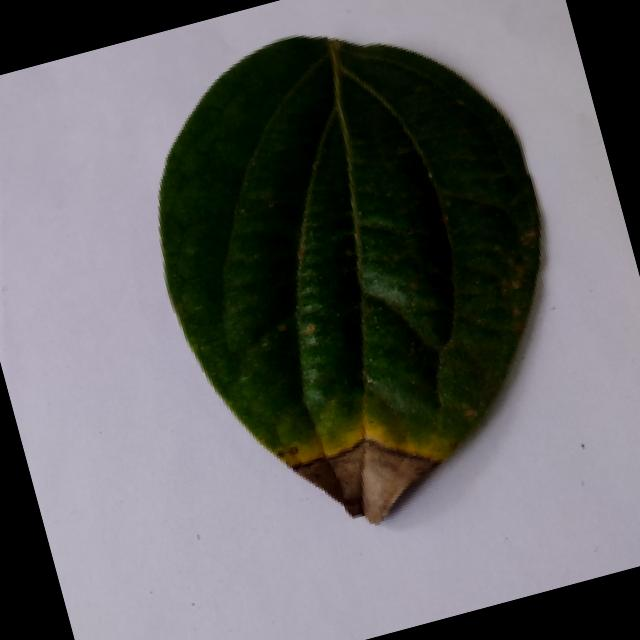footrot: (104, 0, 617, 558)
